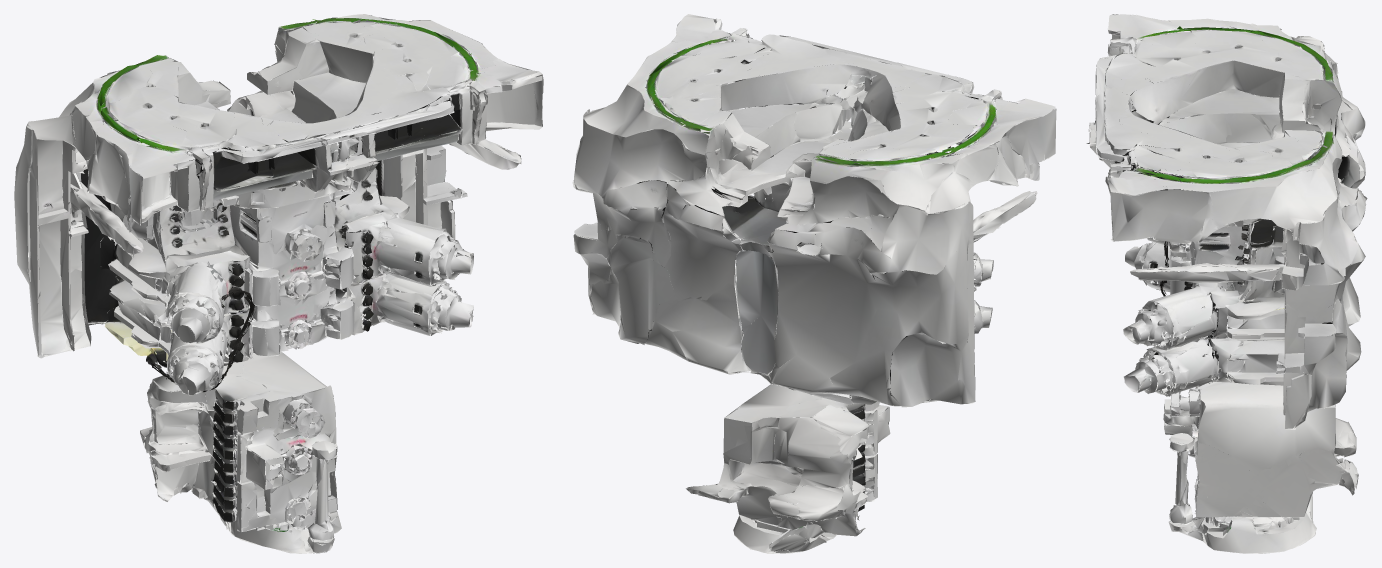
File: wbsr.glb
3 views of the same model, side by side, from view 1: azimuth 30°, elevation 25°; view 2: azimuth 150°, elevation 25°; view 3: azimuth 270°, elevation 25° (orthographic). The views are drawn at different scales.
Visible parts, largest first — view 1: model; view 2: model; view 3: model.
Boxes of the visible parts, bbox=[...] form: model: bbox=[14, 14, 543, 553]; model: bbox=[572, 14, 1056, 553]; model: bbox=[1086, 14, 1367, 553].
Bounding box in the file's own units: 1.83 × 1.91 × 1.14.
Materials: 1 (1 with a texture image).
